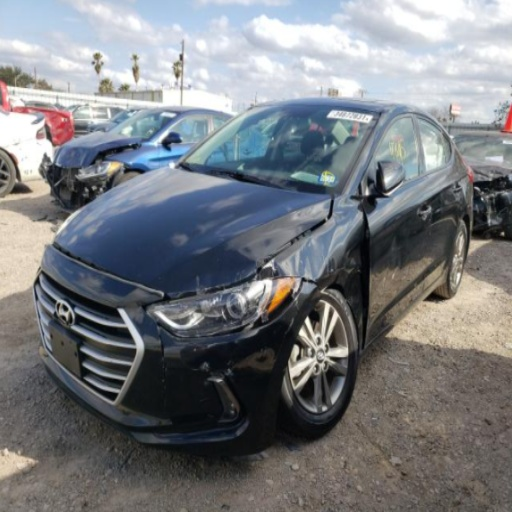dent: (160, 294, 300, 405)
scratch: (294, 238, 301, 274), (261, 258, 277, 271), (195, 279, 204, 293), (206, 377, 224, 383), (201, 363, 209, 373), (204, 283, 219, 288), (226, 369, 235, 376)
